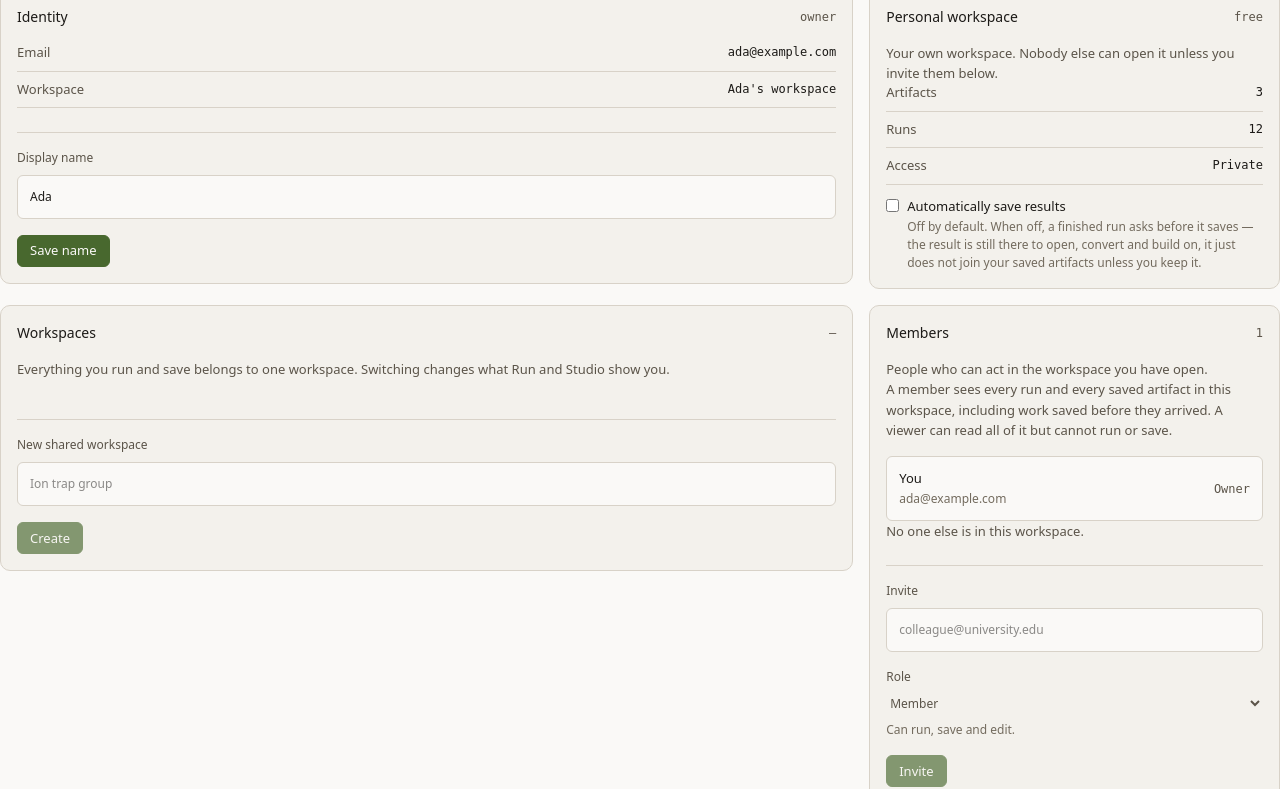
Test: account settings: a failed save shows the server's error and leaves the button enabled to retry
This screenshot has width=1280, height=789.
Expected: the form with class "mj-account-profile-form" showing "Display name Save name" is shown, top-left (17, 132), bottom-right (836, 267)
Replace the text in the field labelled "Display name" with "Ada Lovelace" at (427, 197), box top-left (17, 175), bottom-right (836, 219)
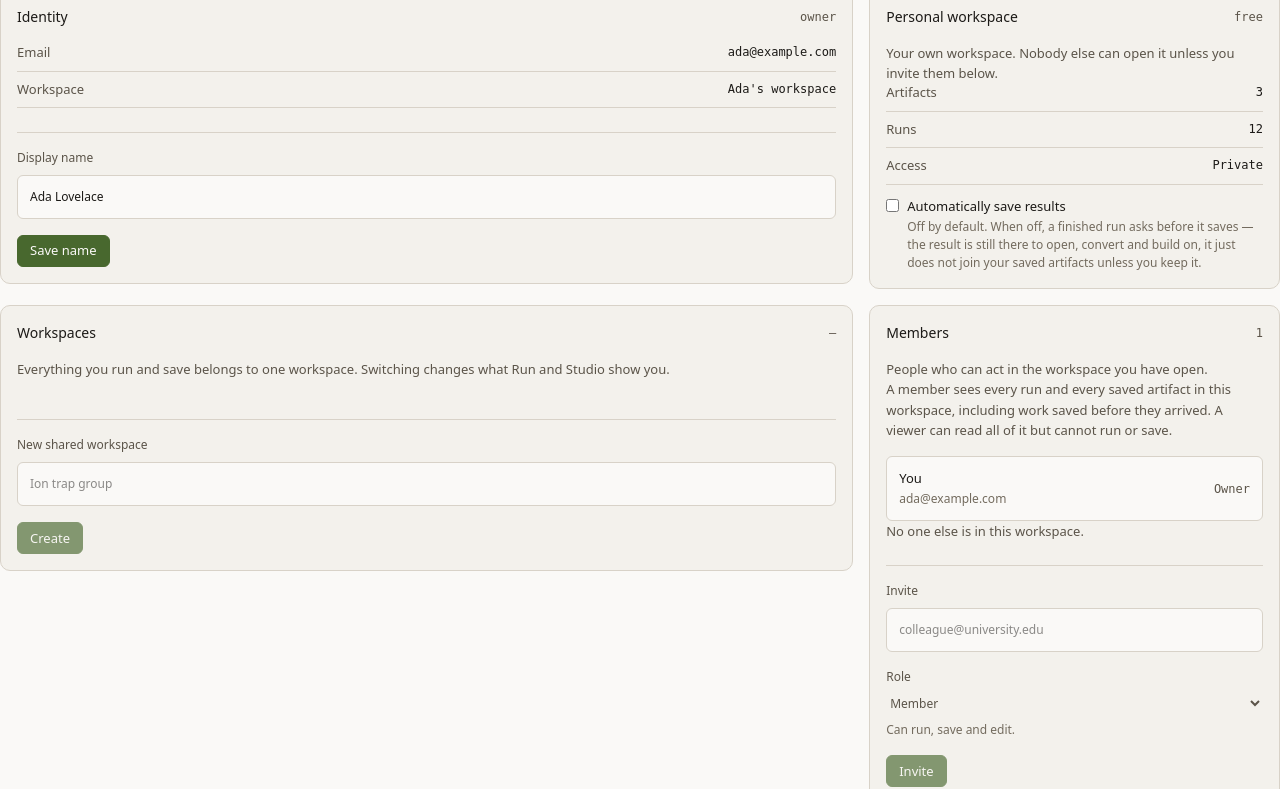
Submit the form with class "mj-account-profile-form" showing "Display name Save name", box top-left (17, 132), bottom-right (836, 267)
(page scrolled)
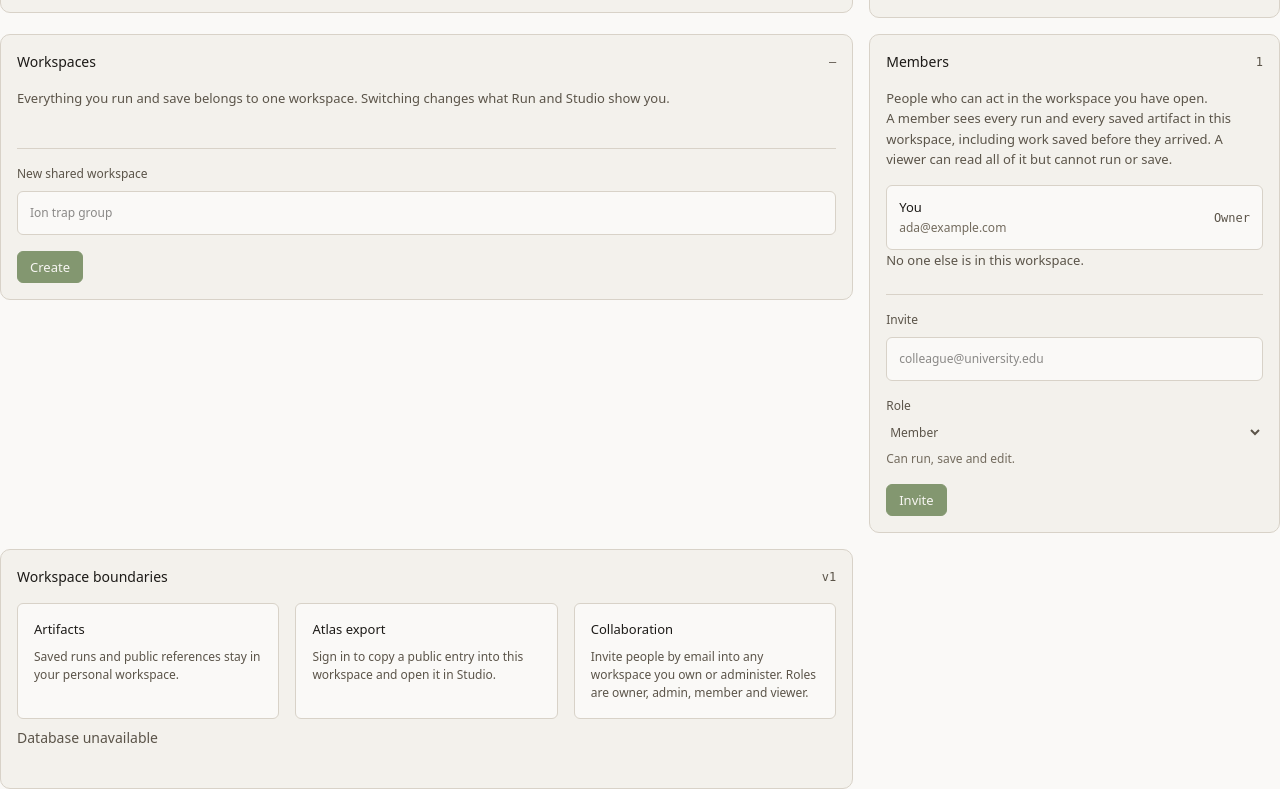
Expected: the message reads "Database unavailable", top-left (17, 728), bottom-right (158, 747)
